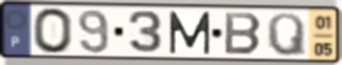3: (126, 10, 165, 56)
9: (75, 8, 111, 55)
B: (223, 10, 264, 57)
M: (168, 10, 213, 56)
O: (30, 6, 75, 55)
Q: (265, 11, 309, 58)
